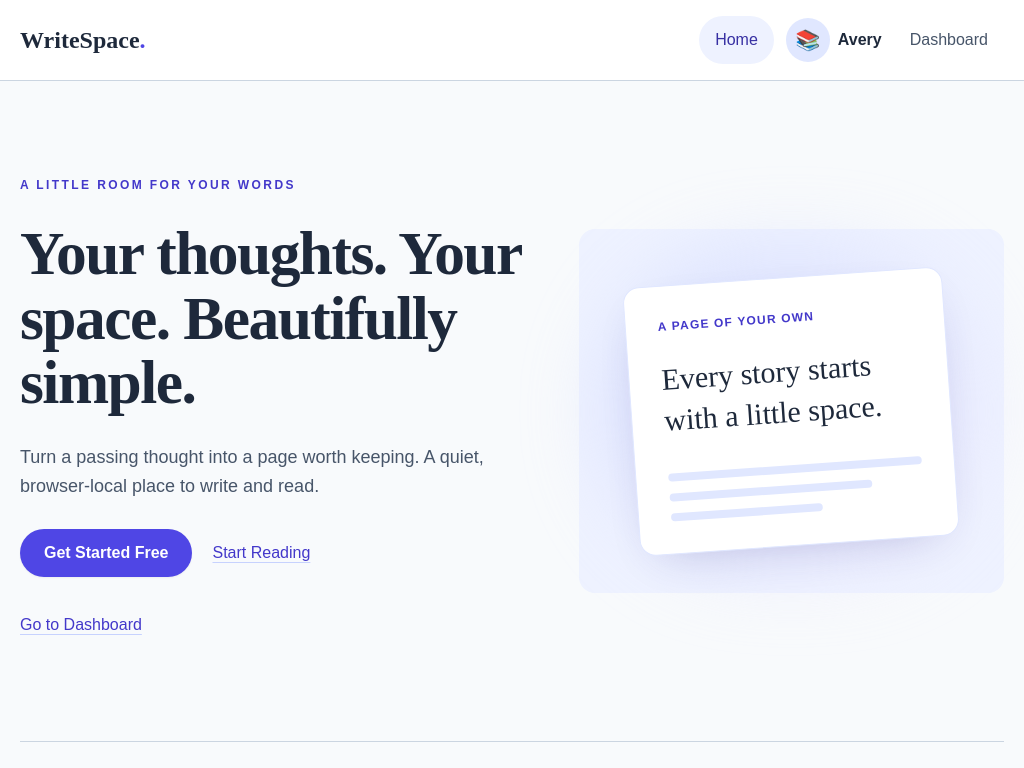
keeps root public and routes dashboard for user without losing session
Check: the navigation bar named "Public navigation" shows "Avery", box top-left (838, 31), bottom-right (882, 48)
Step 1. Click the link "Go to Dashboard" → (81,624), box top-left (20, 616), bottom-right (142, 633)
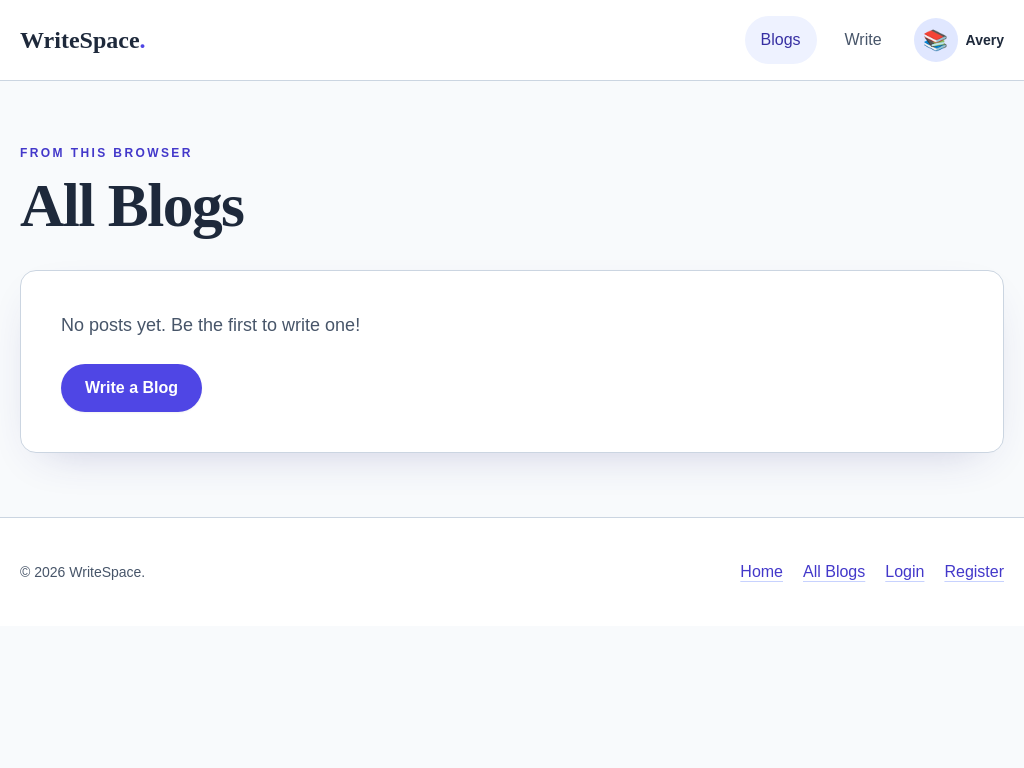
Check: the navigation bar named "Account navigation" is shown, box top-left (0, 0), bottom-right (1023, 80)
